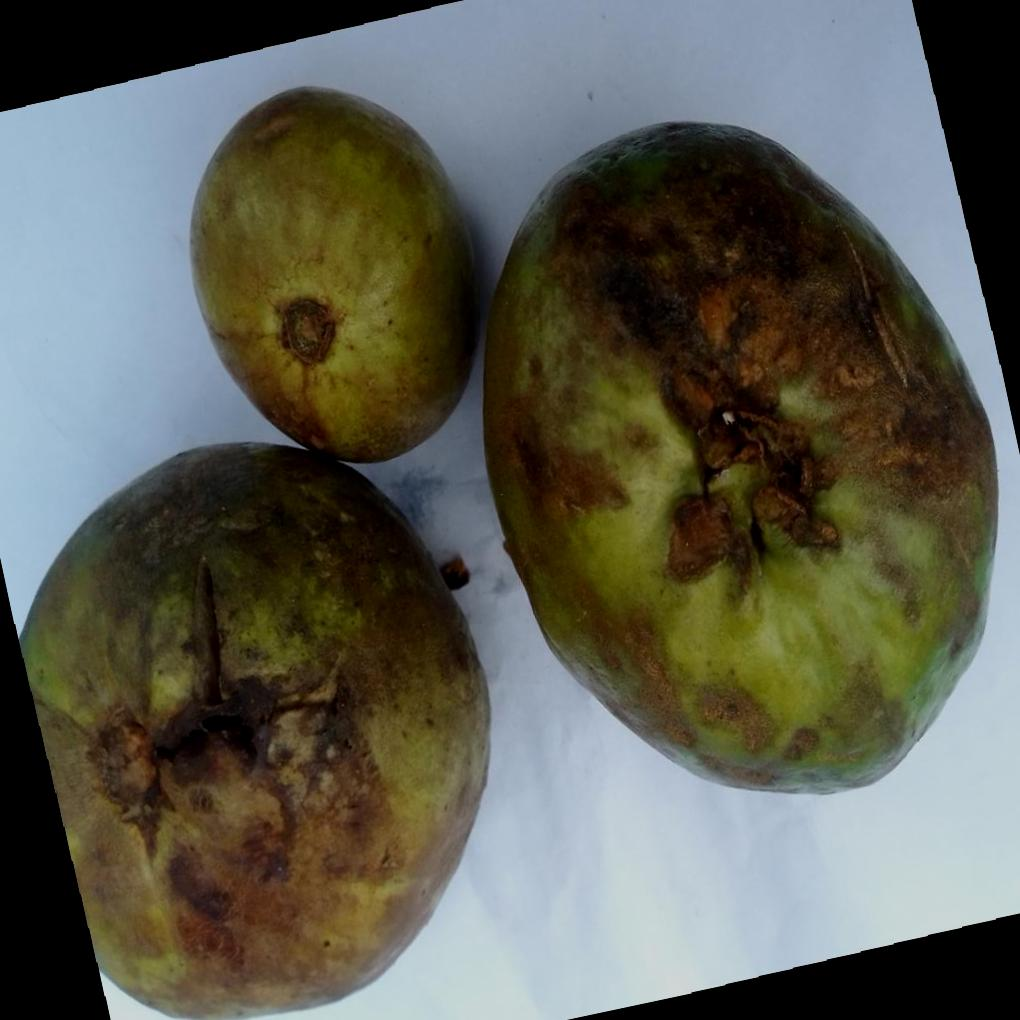FreshOrange: (14, 86, 997, 1020)
